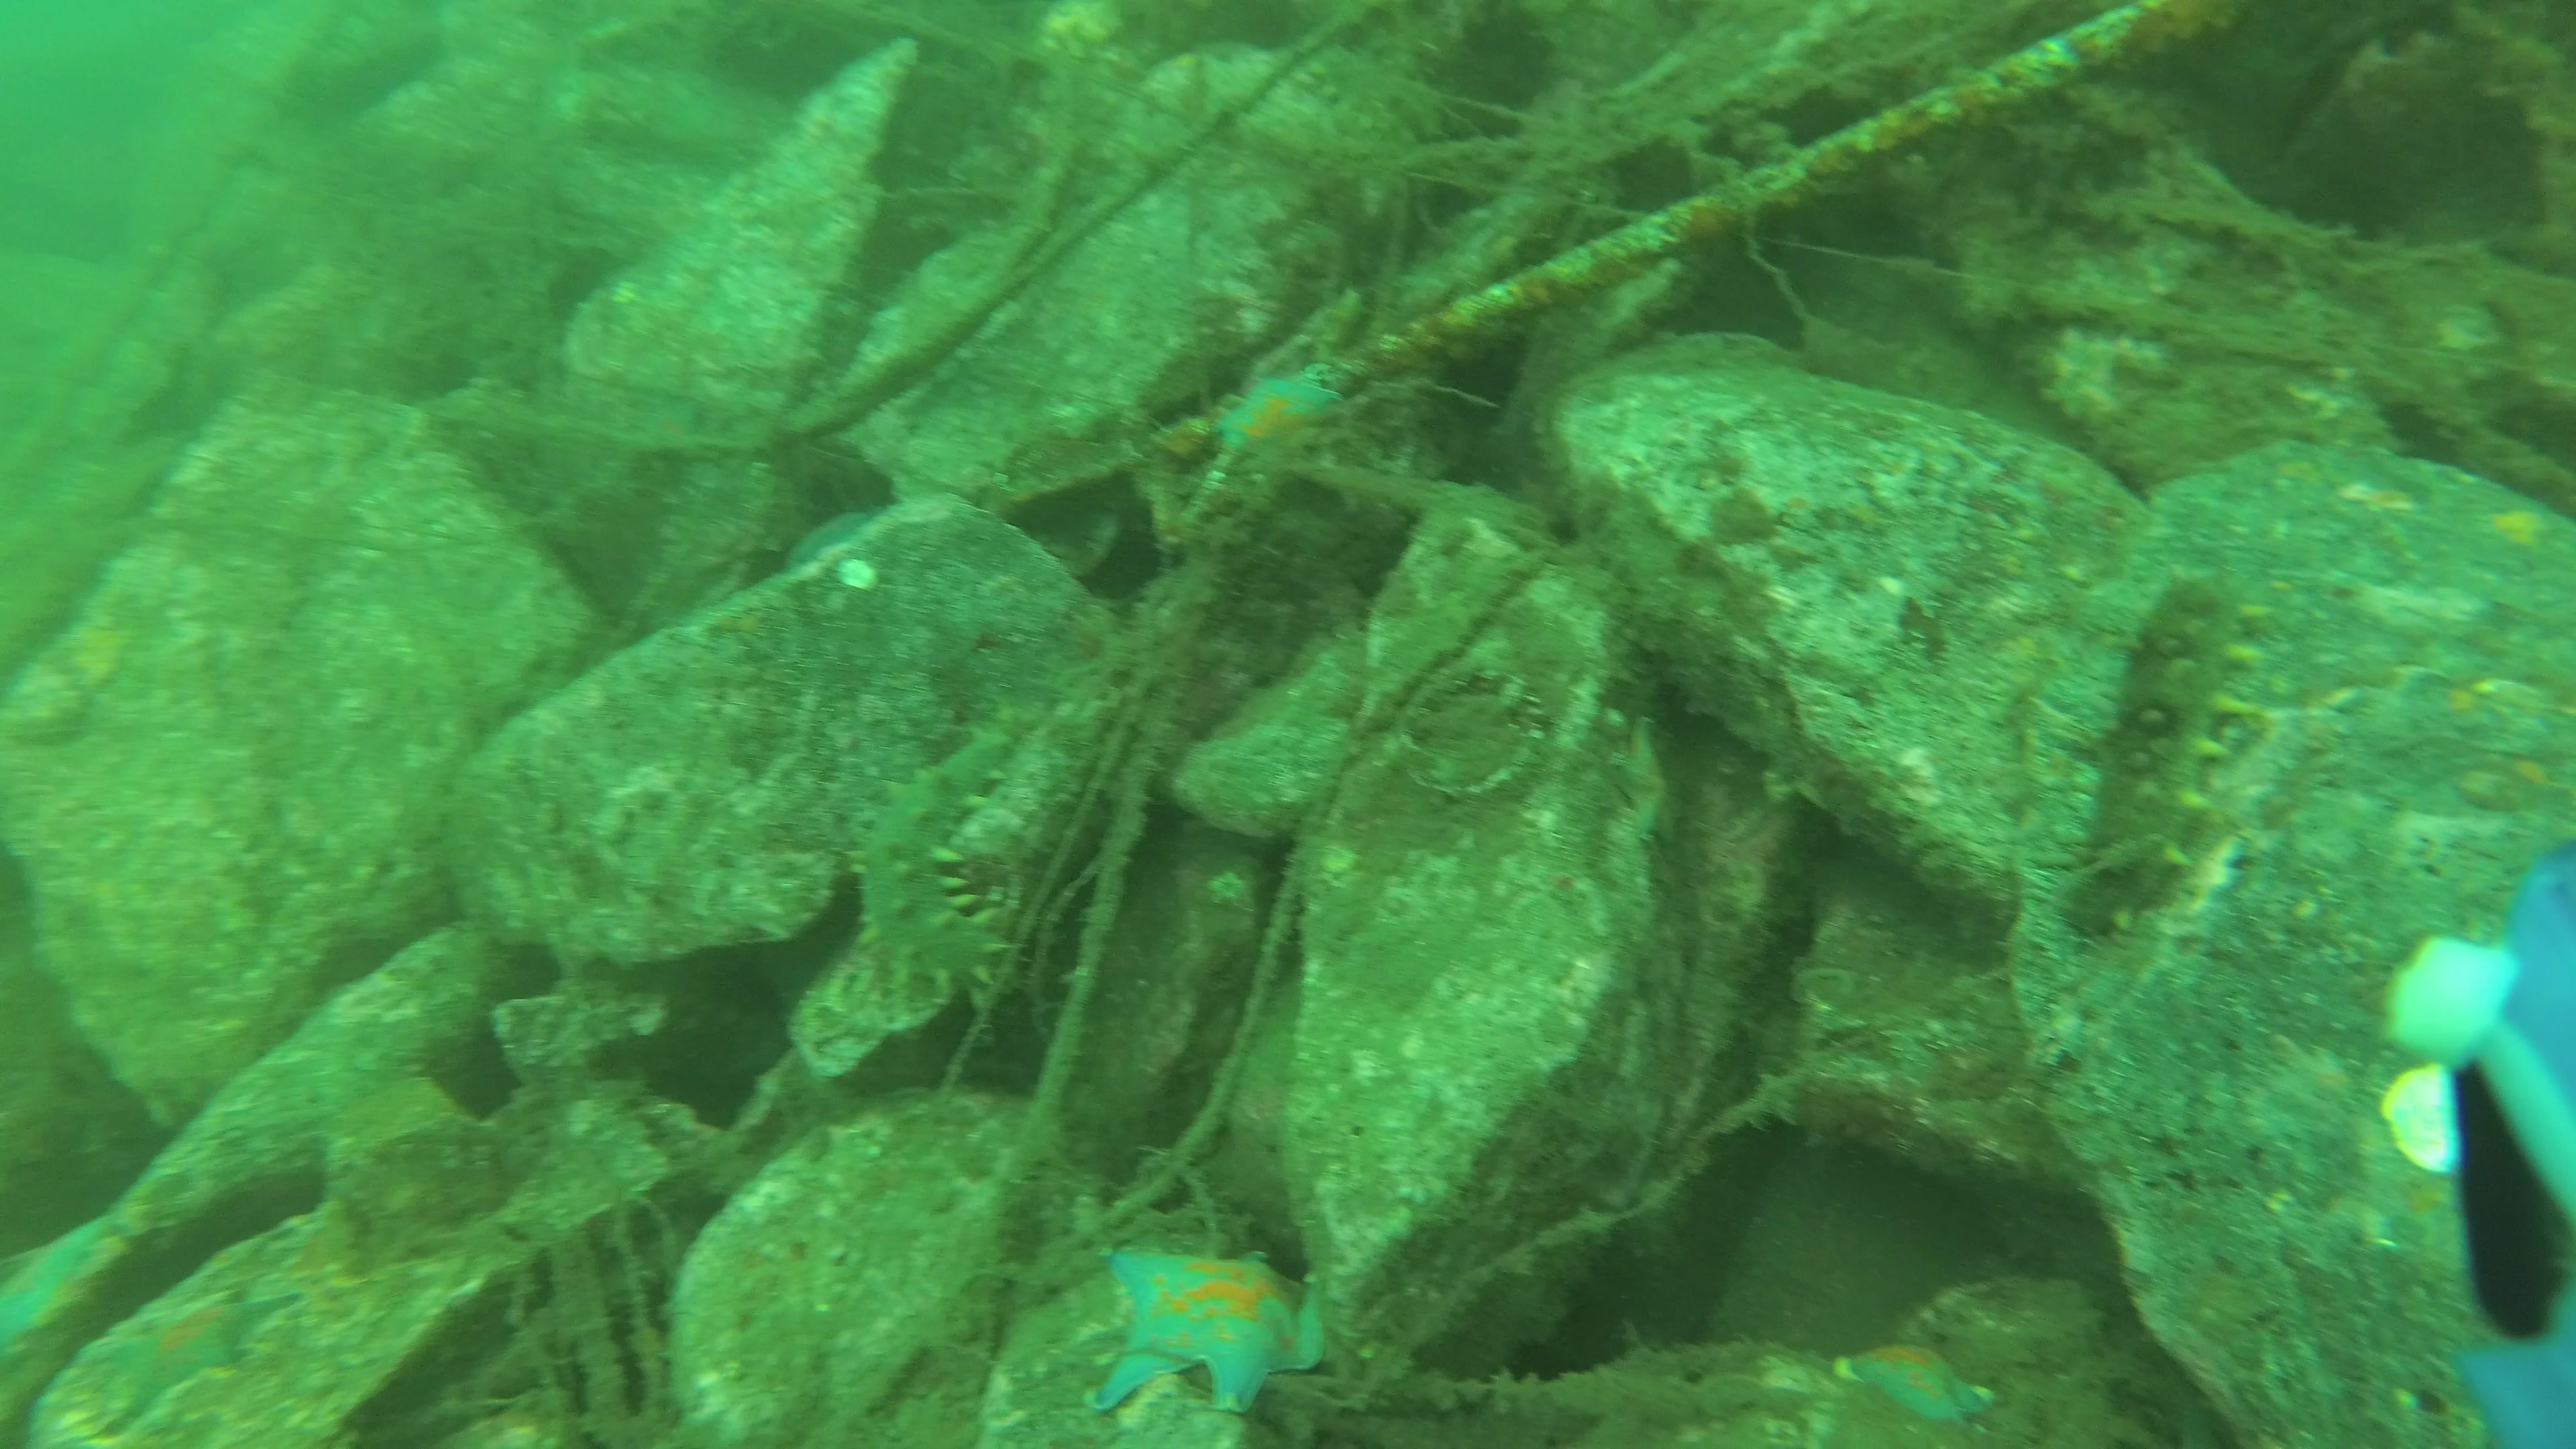holothurian: (2051, 557, 2273, 948), (835, 720, 1033, 1014)
starfish: (1079, 1233, 1332, 1424), (94, 1276, 295, 1431), (7, 1212, 127, 1368), (1831, 1338, 2005, 1433), (1210, 364, 1346, 464)
